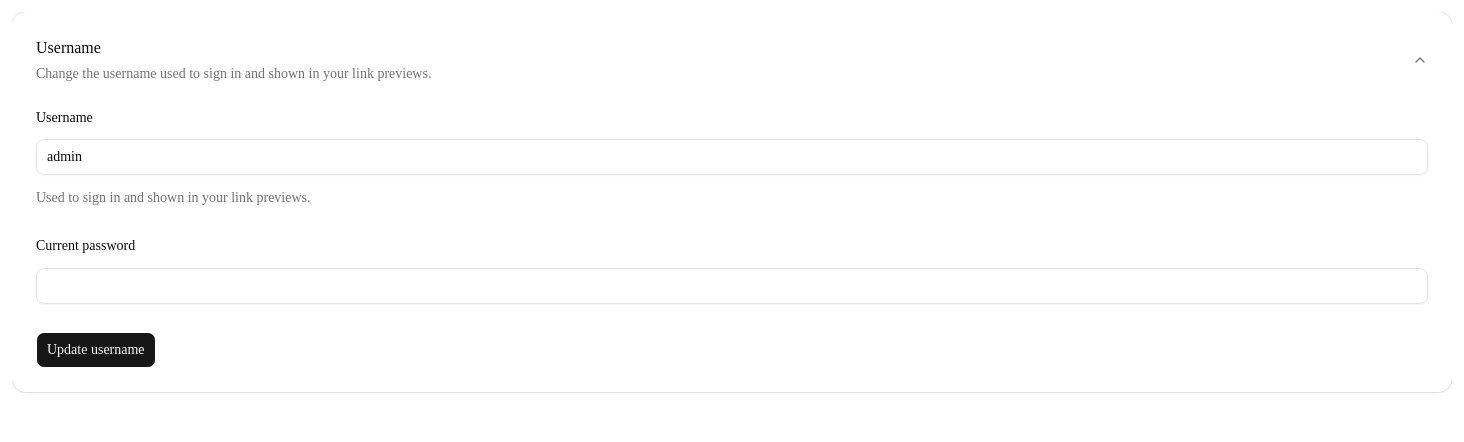
Test: ProfileForm › surfaces an incorrect current password from the API
Type "wrong-secret" into the password field labelled "Current password".
click(732, 286); type("wrong-secret")  # box [36,268,1428,304]
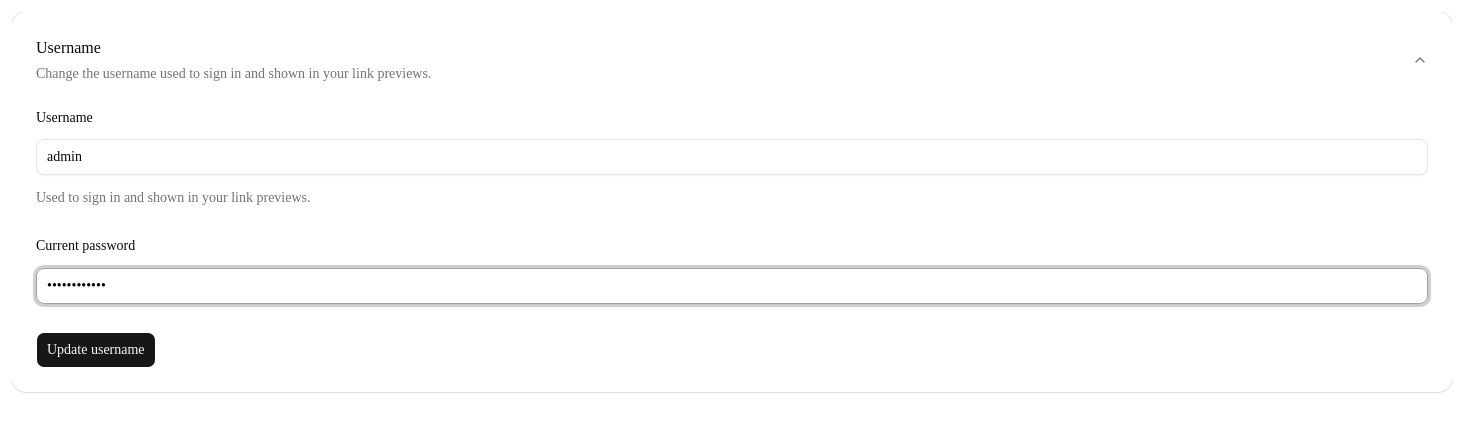
Click the button "Update username".
click(96, 350)  # box [36,332,156,368]
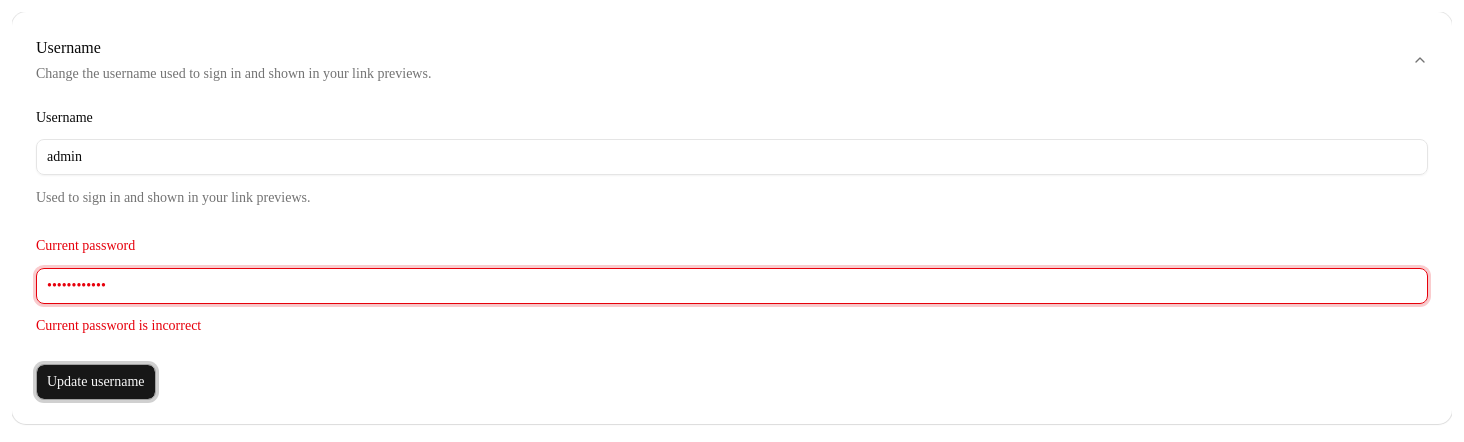
Check: the text "Current password is incorrect" is shown, box [36,318,201,332]
